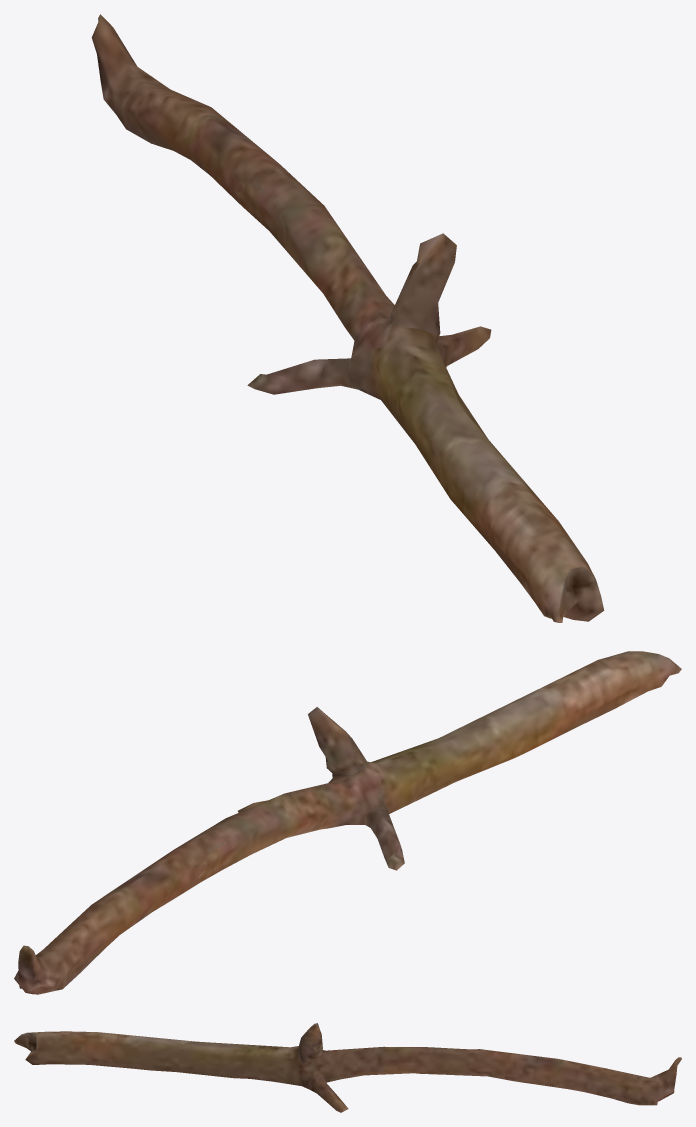
Rendered from SM_pal_b00_tree_Pine_Ground_Twig_01_RealBiomes_4c9a8e.glb.
The picture shows the model from 3 angles, top to bottom: view 1: azimuth 30°, elevation 25°; view 2: azimuth 150°, elevation 25°; view 3: azimuth 270°, elevation 25°; orthographic projection. The views are drawn at different scales.
Bounding box in the file's own units: 0.1701 × 0.0925 × 0.7496.
1 material, 1 textured.
